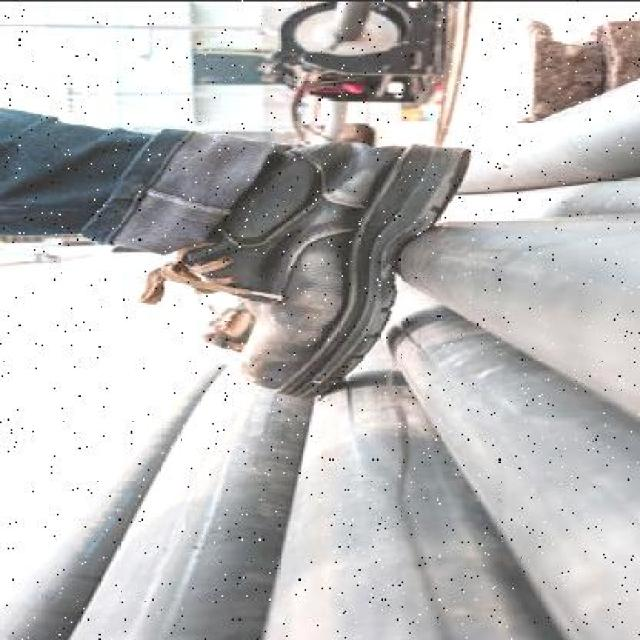shoes: (192, 140, 472, 398)
